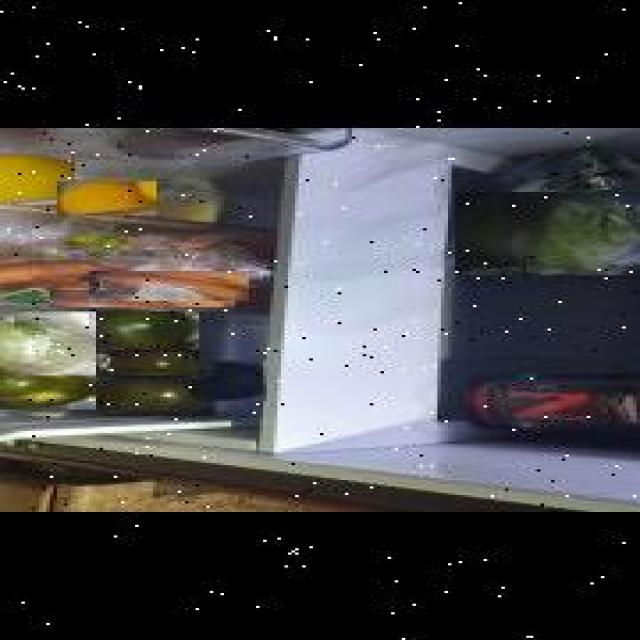carrot: (86, 272, 246, 302), (46, 290, 231, 307), (0, 262, 114, 288), (153, 239, 227, 252)
lemon: (0, 153, 71, 204), (53, 182, 153, 216)
salad: (448, 192, 640, 275), (0, 311, 92, 375)
tomato: (87, 312, 194, 354), (92, 378, 210, 416), (0, 362, 92, 409), (181, 361, 263, 401), (101, 350, 194, 375), (0, 382, 43, 416)
